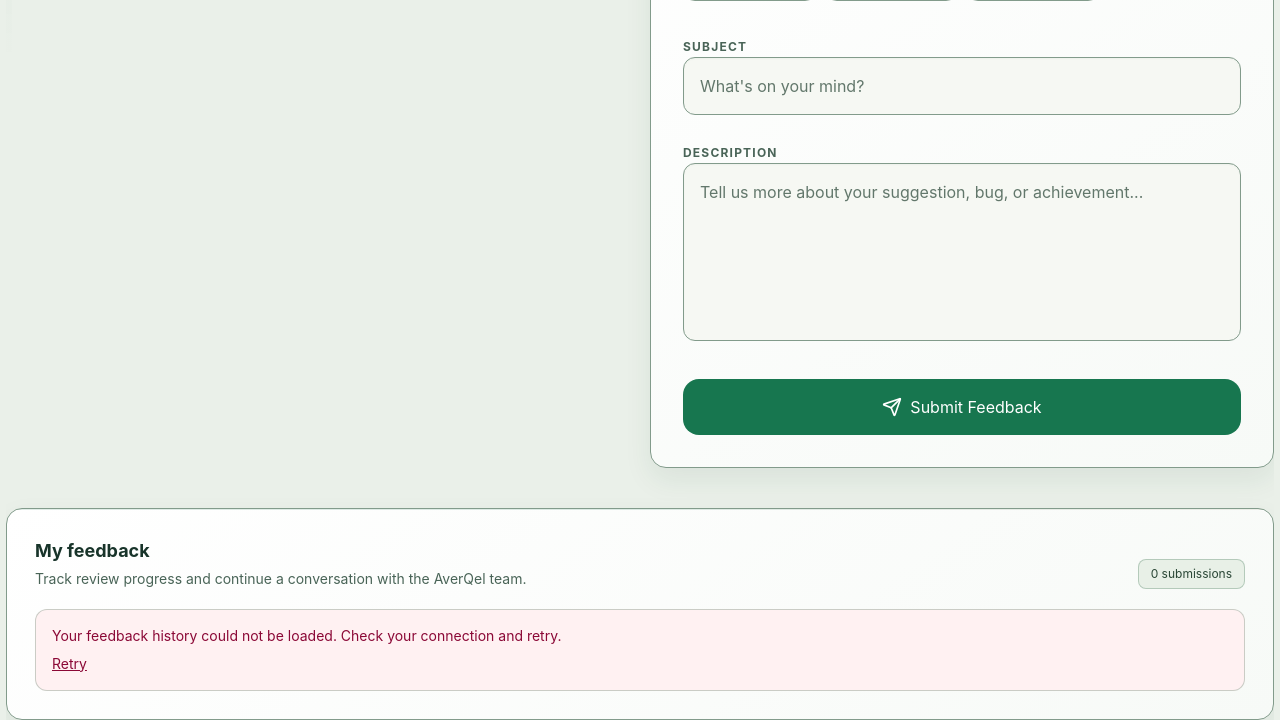
Scenario: feedback page navigation › shows a retryable error instead of an empty history when loading fails
(page scrolled)
expect the message shows "Your feedback history could not be loaded.": met, box [52,626,562,644]
expect the text "Your submitted feedback and team replies will appear here." is not shown: met
Click the button "Retry" at (69,664), box [52,654,87,674]
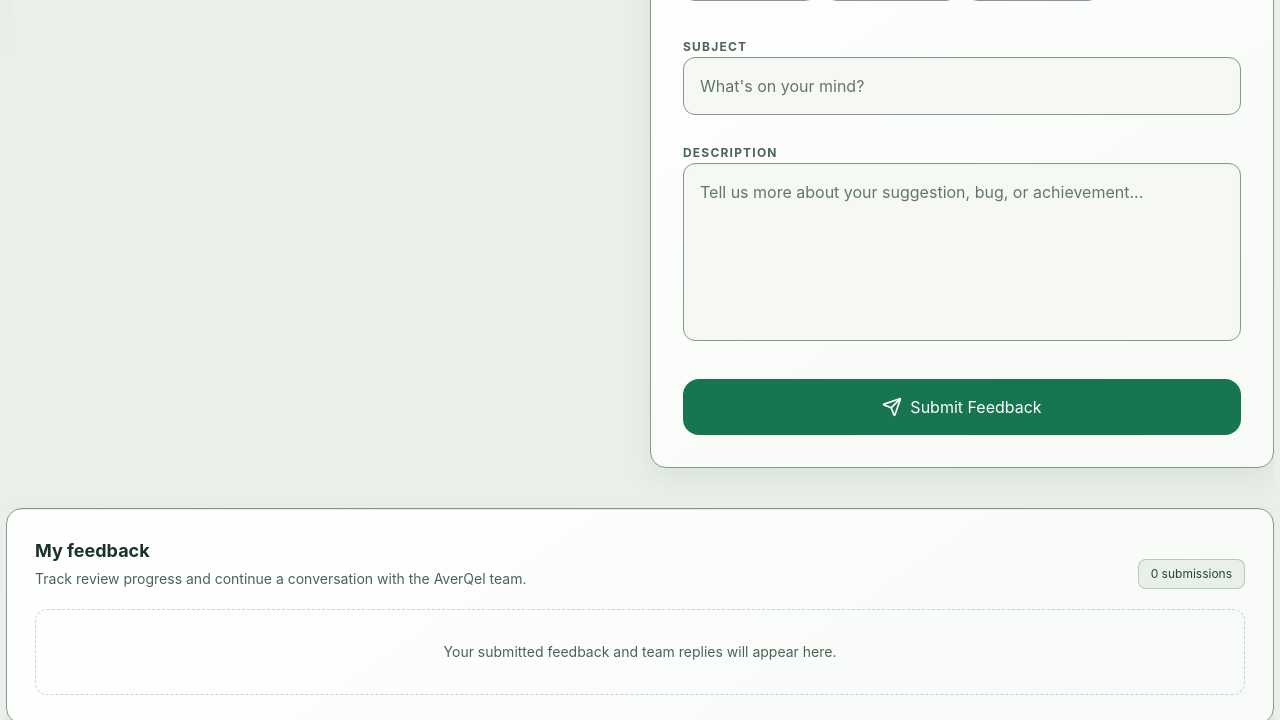
expect the text "Your submitted feedback and team replies will appear here." is shown: met, box [35,608,1245,694]
